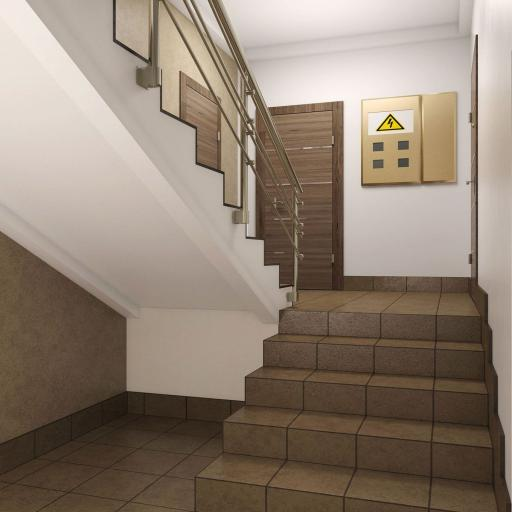corridor: (270, 103, 343, 289), (181, 72, 221, 169), (470, 36, 477, 299)
sofa: (196, 292, 496, 511)
